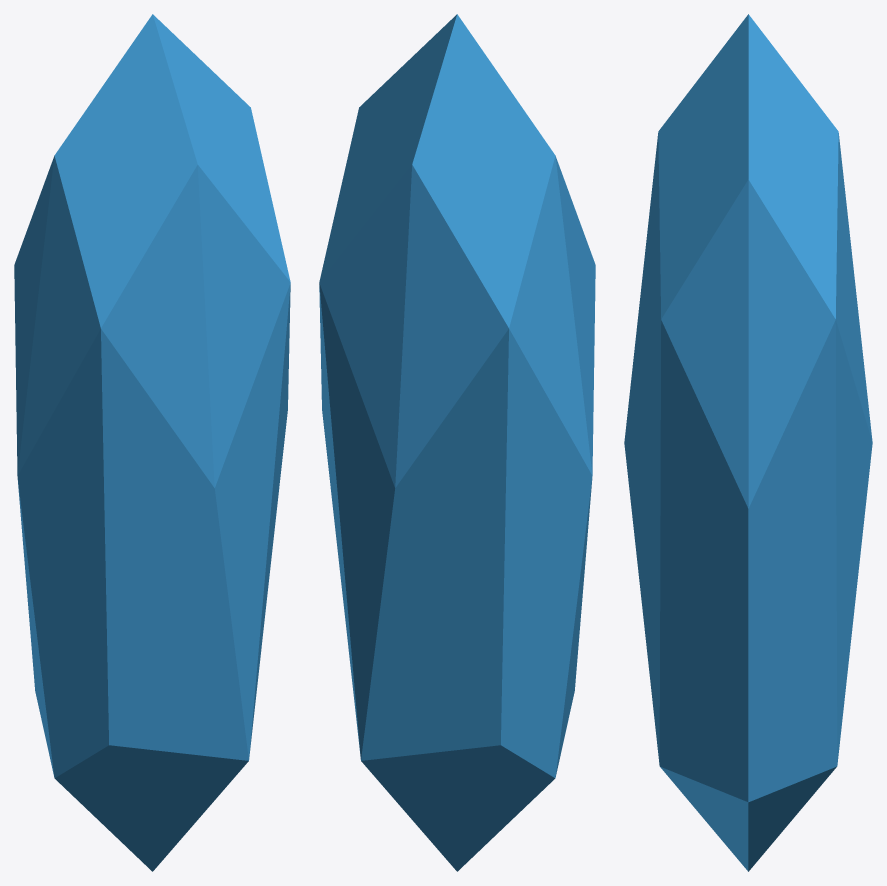
The model's file is simecore.fbx.
3 renders of one model, left to right at view 1: azimuth 30°, elevation 25°; view 2: azimuth 150°, elevation 25°; view 3: azimuth 270°, elevation 25°, orthographic.
Parts seen in each view (by area): view 1: Cube; view 2: Cube; view 3: Cube.
Boxes of the visible parts, x1=… form: Cube: x1=14, y1=14, x2=290, y2=871; Cube: x1=319, y1=14, x2=595, y2=871; Cube: x1=624, y1=14, x2=872, y2=871.
Bounding box in the file's own units: 88.14 × 267 × 70.08.
